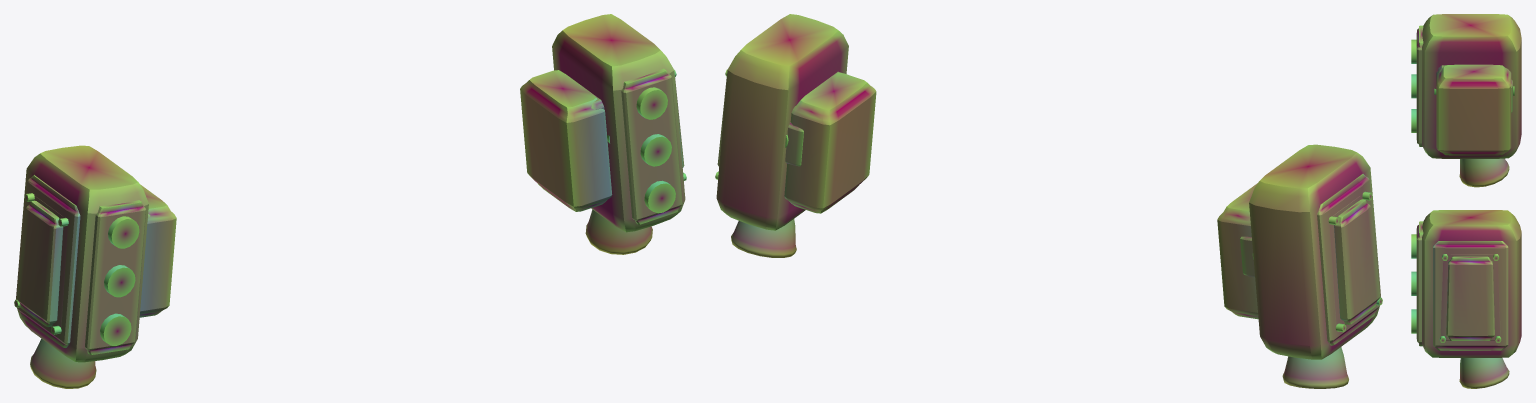
The model's file is llm_gen_leg_thrusters_060_d446af.glb.
3 renders of one model, left to right at view 1: azimuth 30°, elevation 25°; view 2: azimuth 150°, elevation 25°; view 3: azimuth 270°, elevation 25°, orthographic. The views are drawn at different scales.
Parts seen in each view (by area): view 1: leg_missile_hull_0_cobalt_anodized_r, adapter_calf_clamp_r, leg_missile_hull_0_cobalt_anodized_l, leg_pod_armor_cover_6_adapter_dark_l, adapter_sub_missile_bezel_dark_1_adapter_dark_l, adapter_sub_missile_bezel_dark_1_adapter_dark_r, adapter_calf_clamp_l, adapter_sub_side_frame_dark_5_adapter_dark_l, leg_ankle_bell_7_vernier_bell_vernier_l, leg_ankle_bell_7_vernier_bell_vernier_r, leg_cell_top_2_titanium_silver_r, leg_cell_top_2_titanium_silver_l (+4 smaller); view 2: leg_missile_hull_0_cobalt_anodized_r, leg_missile_hull_0_cobalt_anodized_l, adapter_calf_clamp_r, leg_pod_armor_cover_6_adapter_dark_l, adapter_calf_clamp_l, adapter_sub_side_frame_dark_5_adapter_dark_l, leg_ankle_bell_7_vernier_bell_vernier_l, leg_ankle_bell_7_vernier_bell_vernier_r, adapter_leg_tank_collar_dark_9_adapter_dark_r; view 3: leg_missile_hull_0_cobalt_anodized_l, adapter_calf_clamp_l, leg_missile_hull_0_cobalt_anodized_r, leg_pod_armor_cover_6_adapter_dark_r, adapter_sub_side_frame_dark_5_adapter_dark_r, leg_ankle_bell_7_vernier_bell_vernier_r, leg_ankle_bell_7_vernier_bell_vernier_l, adapter_sub_missile_bezel_dark_1_adapter_dark_r, adapter_sub_missile_bezel_dark_1_adapter_dark_l, leg_cell_top_2_titanium_silver_r, leg_cell_top_2_titanium_silver_l, leg_cell_mid_3_titanium_silver_r (+3 smaller).
Part boxes in pixels (x1,y1,x2,y2): leg_missile_hull_0_cobalt_anodized_r: [552, 14, 685, 232]; adapter_calf_clamp_r: [520, 70, 612, 211]; leg_missile_hull_0_cobalt_anodized_l: [16, 145, 148, 362]; leg_pod_armor_cover_6_adapter_dark_l: [14, 193, 68, 334]; adapter_sub_missile_bezel_dark_1_adapter_dark_l: [85, 200, 146, 354]; adapter_sub_missile_bezel_dark_1_adapter_dark_r: [621, 68, 682, 224]; adapter_calf_clamp_l: [139, 184, 176, 317]; adapter_sub_side_frame_dark_5_adapter_dark_l: [17, 175, 80, 347]; leg_ankle_bell_7_vernier_bell_vernier_l: [30, 338, 96, 388]; leg_ankle_bell_7_vernier_bell_vernier_r: [585, 209, 652, 254]; leg_cell_top_2_titanium_silver_r: [636, 87, 667, 119]; leg_cell_top_2_titanium_silver_l: [108, 216, 139, 248]; leg_missile_hull_0_cobalt_anodized_r: [716, 14, 848, 230]; leg_missile_hull_0_cobalt_anodized_l: [1249, 144, 1380, 359]; adapter_calf_clamp_r: [784, 72, 876, 213]; leg_pod_armor_cover_6_adapter_dark_l: [1328, 191, 1382, 332]; adapter_calf_clamp_l: [1217, 183, 1258, 319]; adapter_sub_side_frame_dark_5_adapter_dark_l: [1317, 174, 1379, 345]; leg_ankle_bell_7_vernier_bell_vernier_l: [1282, 347, 1348, 388]; leg_ankle_bell_7_vernier_bell_vernier_r: [731, 219, 796, 257]; adapter_leg_tank_collar_dark_9_adapter_dark_r: [785, 122, 803, 166]; leg_missile_hull_0_cobalt_anodized_l: [1422, 14, 1521, 158]; adapter_calf_clamp_l: [1436, 64, 1511, 155]; leg_missile_hull_0_cobalt_anodized_r: [1422, 210, 1521, 357]; leg_pod_armor_cover_6_adapter_dark_r: [1439, 254, 1501, 342]; adapter_sub_side_frame_dark_5_adapter_dark_r: [1433, 241, 1508, 350]; leg_ankle_bell_7_vernier_bell_vernier_r: [1459, 358, 1509, 388]; leg_ankle_bell_7_vernier_bell_vernier_l: [1459, 158, 1509, 187]; adapter_sub_missile_bezel_dark_1_adapter_dark_r: [1416, 221, 1423, 346]; adapter_sub_missile_bezel_dark_1_adapter_dark_l: [1416, 25, 1423, 146]; leg_cell_top_2_titanium_silver_r: [1411, 234, 1416, 258]; leg_cell_top_2_titanium_silver_l: [1411, 39, 1416, 63]; leg_cell_mid_3_titanium_silver_r: [1411, 271, 1416, 295].
Bounding box in the file's own units: 81.56 × 26.26 × 16.2.
